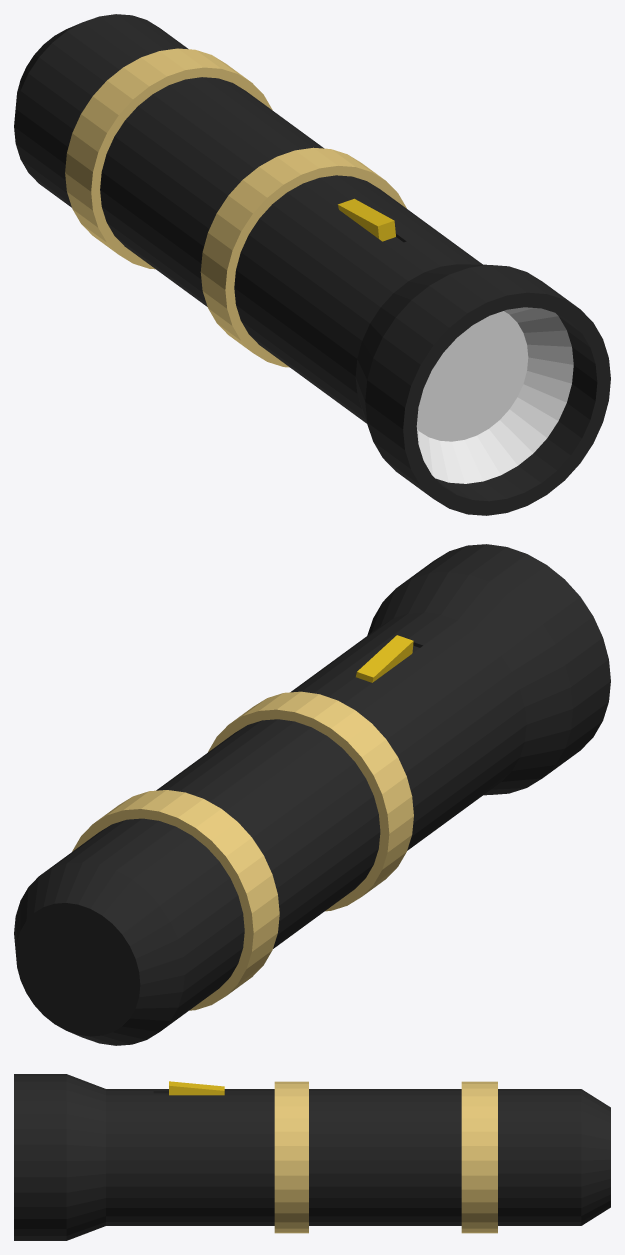
The model's file is Torch.fbx.
3 views of the same model, one above another, from view 1: azimuth 30°, elevation 25°; view 2: azimuth 150°, elevation 25°; view 3: azimuth 270°, elevation 25° (orthographic). The views are drawn at different scales.
Parts seen in each view (by area): view 1: Cylinder; view 2: Cylinder; view 3: Cylinder.
Part boxes in pixels (x1=…): Cylinder: x1=14, y1=14, x2=610, y2=515; Cylinder: x1=14, y1=544, x2=610, y2=1045; Cylinder: x1=14, y1=1074, x2=610, y2=1240.
Size of the model in its own units: 131 by 131 by 467.
